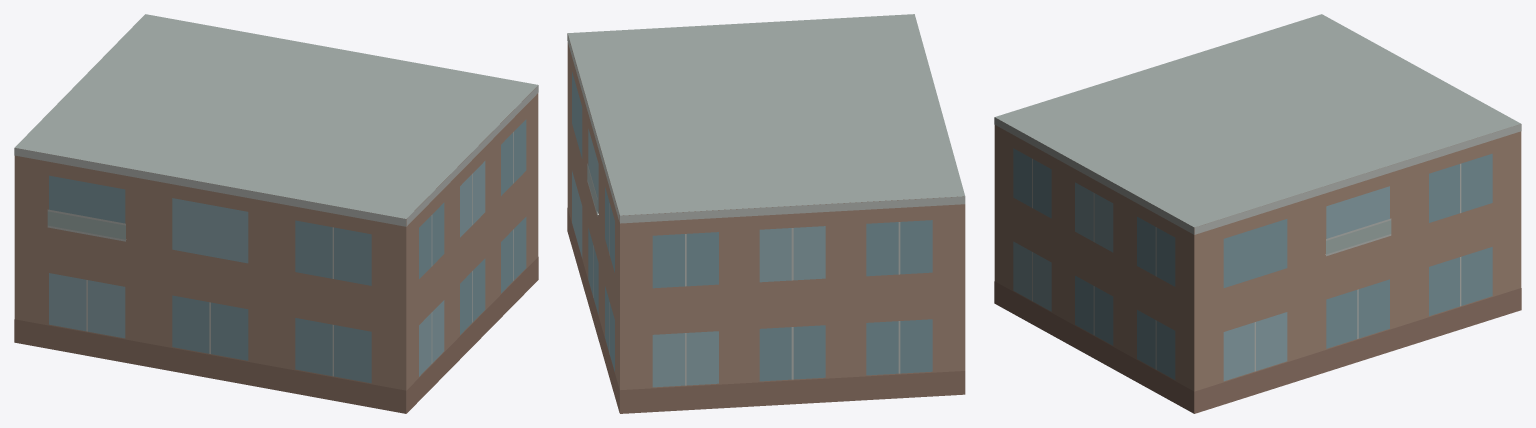
Rendered from survey-upis-32706246.glb.
The picture shows the model from 3 angles, left to right: view 1: azimuth 30°, elevation 25°; view 2: azimuth 150°, elevation 25°; view 3: azimuth 270°, elevation 25°; orthographic projection. The views are drawn at different scales.
Visible parts, largest first — view 1: survey-upis-32706246.tmp; view 2: survey-upis-32706246.tmp; view 3: survey-upis-32706246.tmp.
Boxes of the visible parts, bbox=[...] form: survey-upis-32706246.tmp: bbox=[14, 14, 538, 413]; survey-upis-32706246.tmp: bbox=[567, 14, 965, 413]; survey-upis-32706246.tmp: bbox=[994, 14, 1521, 413].
Size of the model in its own units: 15 by 6.1 by 15.64.
